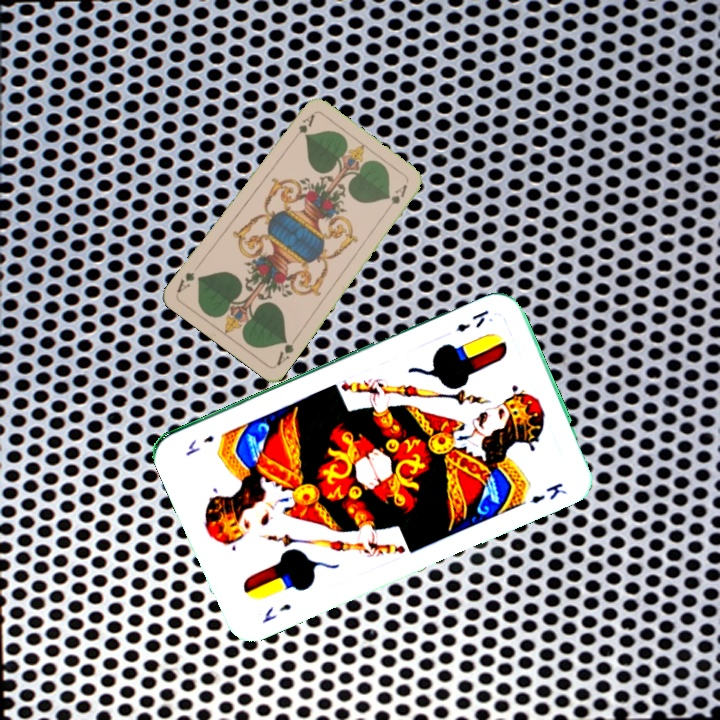EK: (452, 306, 492, 335), (258, 599, 294, 625)
GA: (272, 332, 300, 369), (288, 110, 317, 145)
